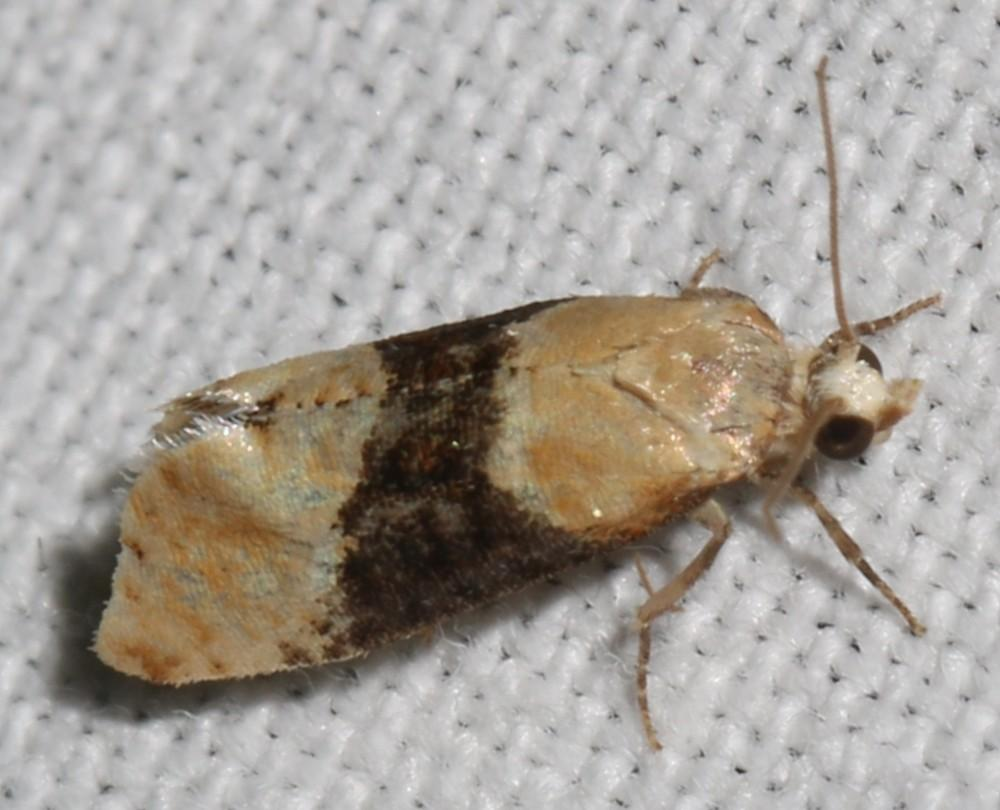Eupoecilia Ambiguella: (86, 52, 947, 753)
